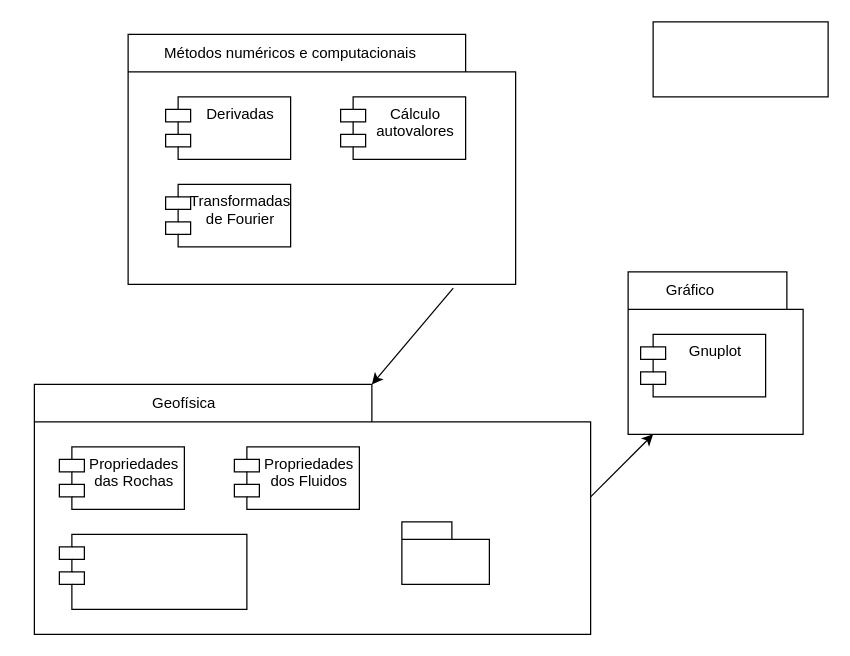
Image size: 850x656. Some labels were removed from this diagram. Each missing label, with the centre of its shape:
"Diagrama de Pacotes" goes at pixel 740 59.
"Gerenciamento dos parâmetros globais do sistema" goes at pixel 152 571.
"Simulador" goes at pixel 445 552.
